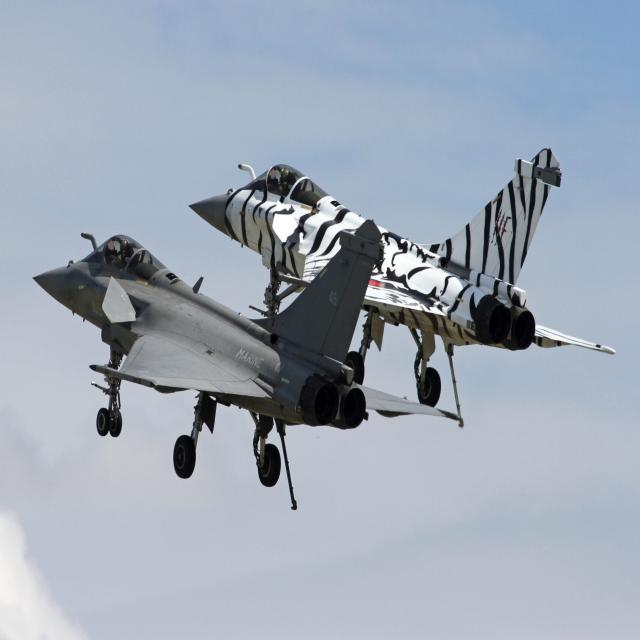MIL_Plane: (32, 218, 460, 510), (188, 147, 615, 427)
